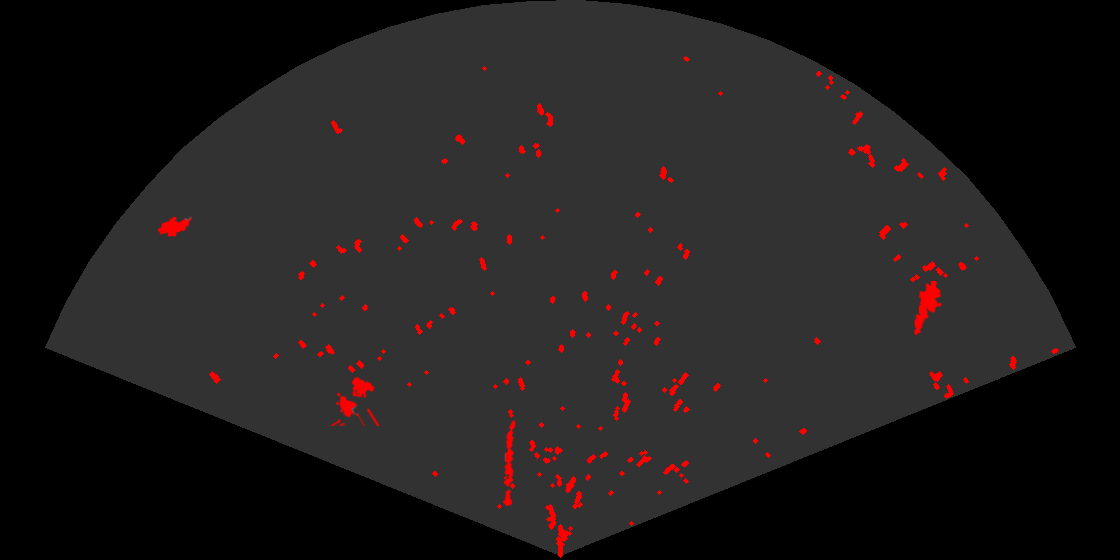AUV: (156, 215, 194, 239)
cage: (328, 375, 382, 426)
chain: (501, 418, 517, 506)
frogman: (913, 281, 944, 336)
